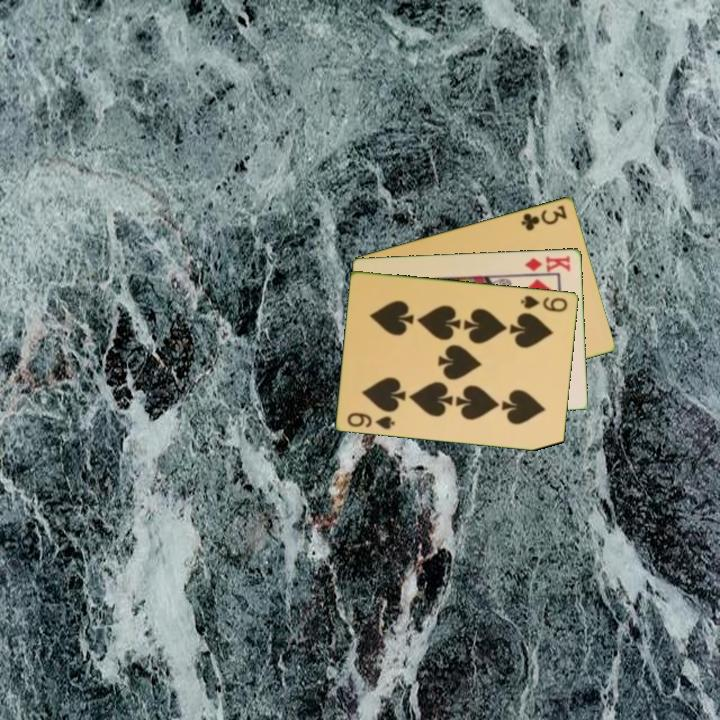3c: (518, 201, 570, 233)
9s: (517, 291, 571, 315), (344, 409, 398, 432)
Kd: (521, 252, 573, 274)
